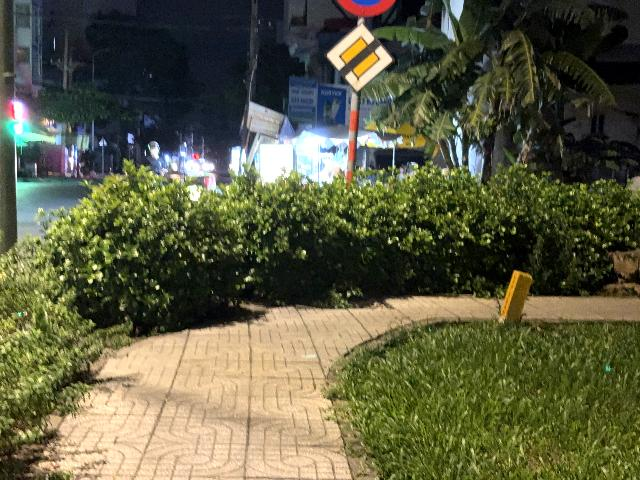het-duong-uu-tien: (323, 21, 397, 96)
